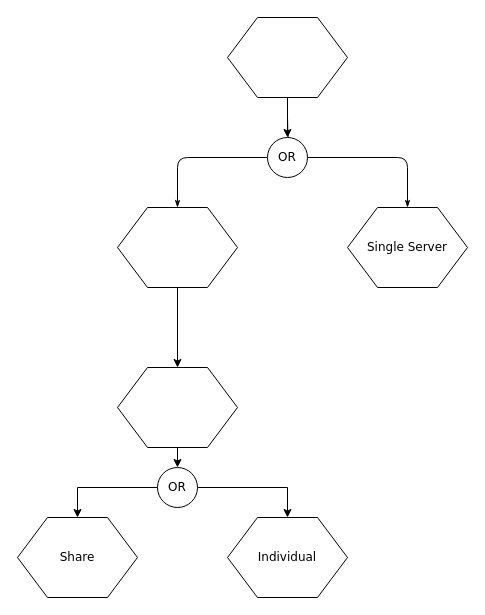
This 485x615 diagram has some shape labels left out. The shapes that lost their labels are listed below. From the top down, each one's centre as x and y in pixels, then its label:
At (x=287, y=57): "Setup".
At (x=177, y=247): "Network".
At (x=177, y=407): "Data Relationship".
